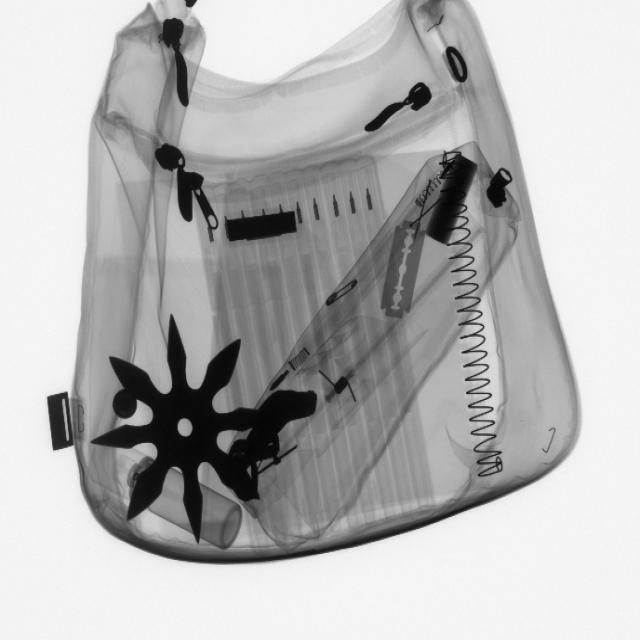BLADE: (376, 217, 427, 328)
SHURIKEN: (92, 313, 284, 545)
